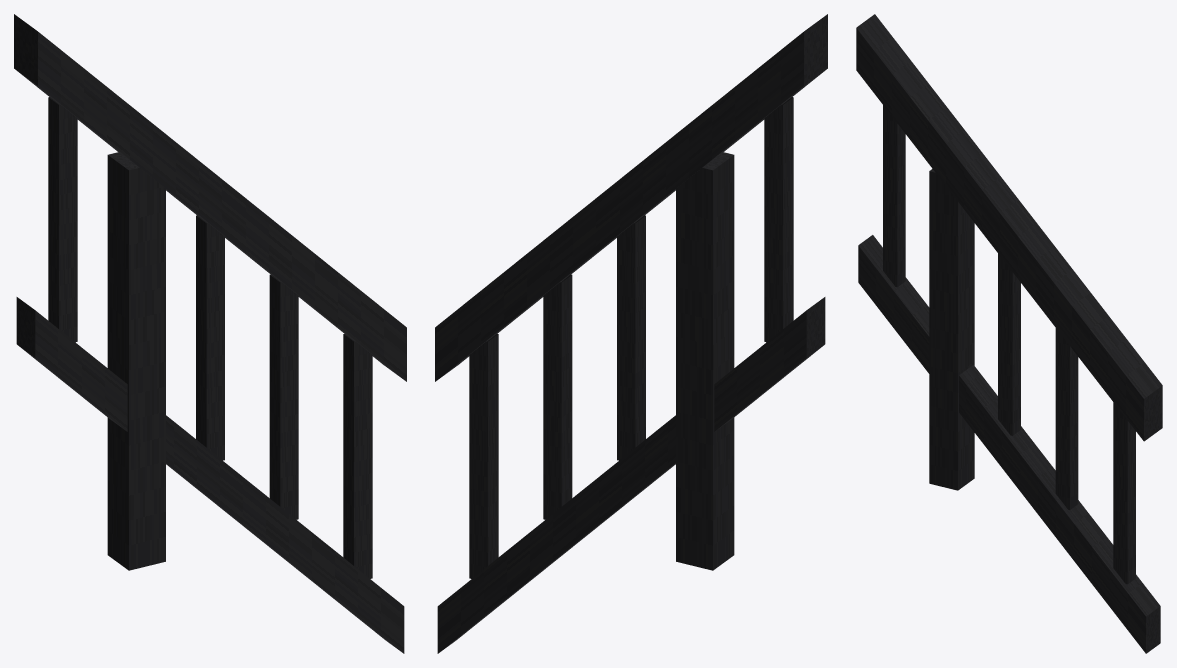
File: mid_neg.obj
3 renders of one model, left to right at view 1: azimuth 30°, elevation 25°; view 2: azimuth 150°, elevation 25°; view 3: azimuth 330°, elevation 25°, orthographic. The views are drawn at different scales.
Parts seen in each view (by area): view 1: railing_picket_black_mid_neg; view 2: railing_picket_black_mid_neg; view 3: railing_picket_black_mid_neg.
Part boxes in pixels (x1=…): railing_picket_black_mid_neg: x1=14, y1=14, x2=406, y2=653; railing_picket_black_mid_neg: x1=435, y1=14, x2=827, y2=653; railing_picket_black_mid_neg: x1=856, y1=14, x2=1162, y2=653.
Size of the model in its own units: 1 by 1.85 by 0.1125.
